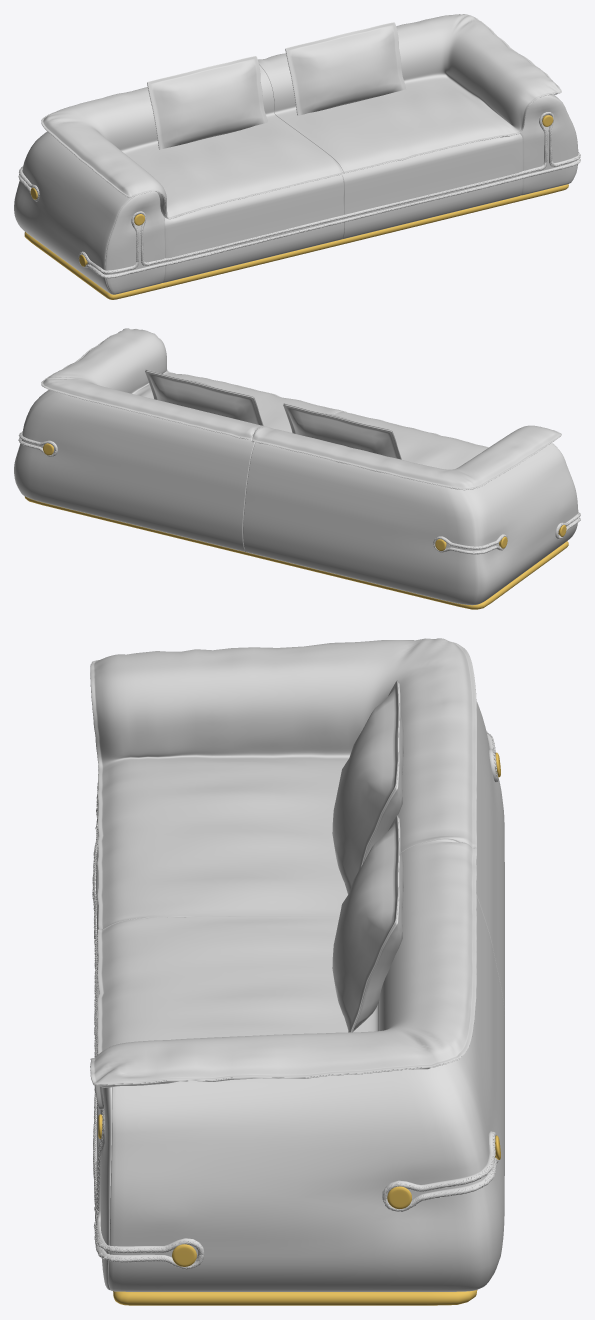
The model's file is SLN_GRAND-THEORY-1_3STR.glb.
The picture shows the model from 3 angles, top to bottom: view 1: azimuth 30°, elevation 25°; view 2: azimuth 150°, elevation 25°; view 3: azimuth 270°, elevation 25°; orthographic projection. The views are drawn at different scales.
Visible parts, largest first — view 1: GRAND THEORY 1_3STR; view 2: GRAND THEORY 1_3STR; view 3: GRAND THEORY 1_3STR.
Boxes of the visible parts, bbox=[...] form: GRAND THEORY 1_3STR: bbox=[14, 14, 580, 299]; GRAND THEORY 1_3STR: bbox=[14, 328, 580, 609]; GRAND THEORY 1_3STR: bbox=[90, 638, 504, 1305].
Bounding box in the file's own units: 3.02 × 0.8519 × 1.13.
